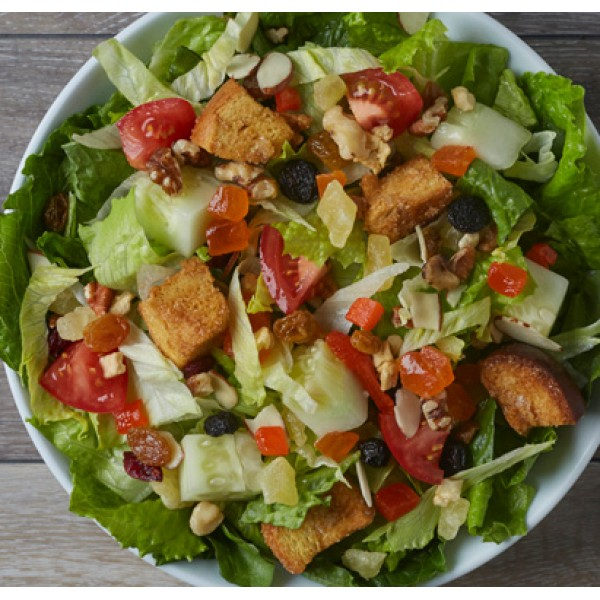chopped lettuce: (16, 142, 208, 272), (52, 414, 187, 555)
slice of bread: (144, 269, 222, 357), (202, 79, 283, 159)
